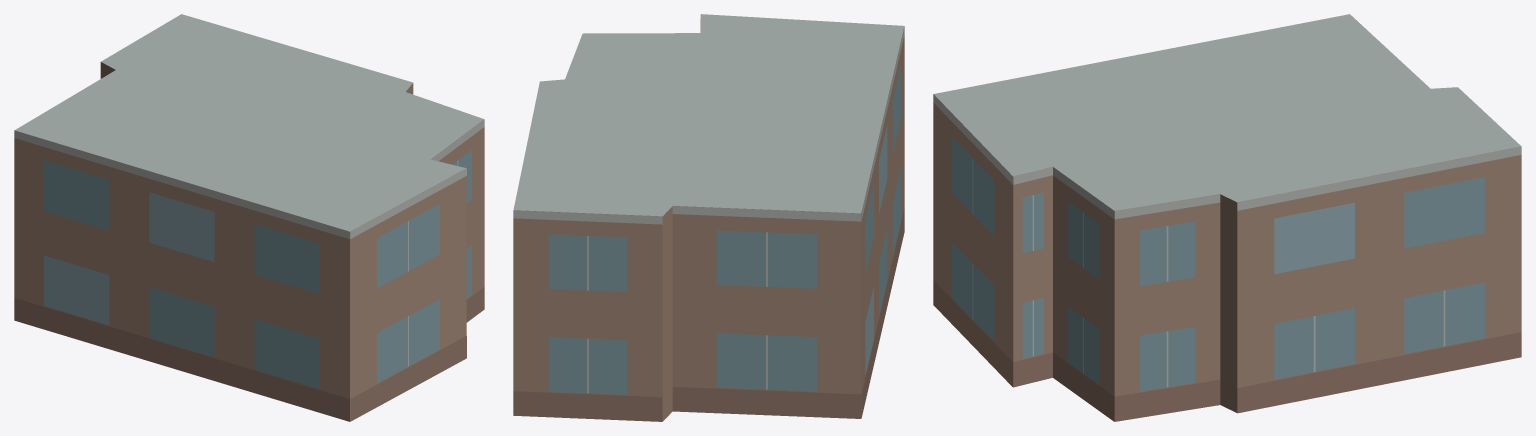
The model's file is survey-upis-32998872.glb.
3 renders of one model, left to right at view 1: azimuth 30°, elevation 25°; view 2: azimuth 150°, elevation 25°; view 3: azimuth 270°, elevation 25°, orthographic. The views are drawn at different scales.
Parts seen in each view (by area): view 1: survey-upis-32998872.tmp; view 2: survey-upis-32998872.tmp; view 3: survey-upis-32998872.tmp.
Part boxes in pixels (left/top/right/bottom): survey-upis-32998872.tmp: left=14, top=14, right=484, bottom=421; survey-upis-32998872.tmp: left=513, top=14, right=904, bottom=421; survey-upis-32998872.tmp: left=933, top=14, right=1521, bottom=421.
Size of the model in its own units: 12.23 by 6.1 by 15.43.
